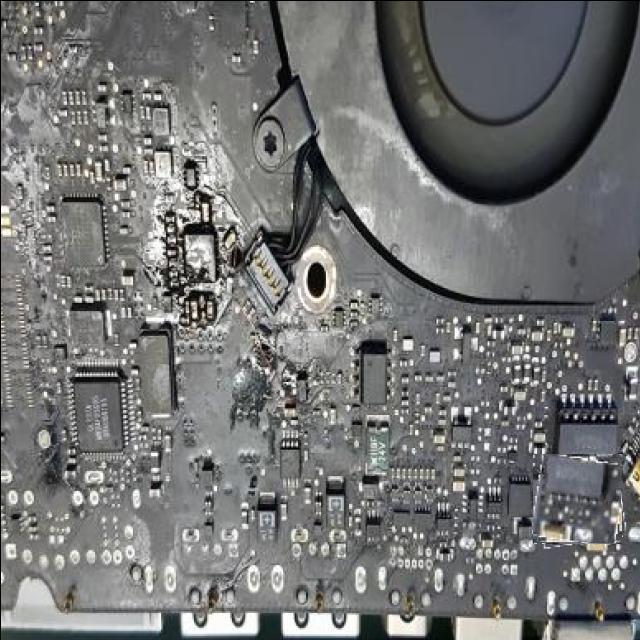damged: (533, 454, 622, 544)
